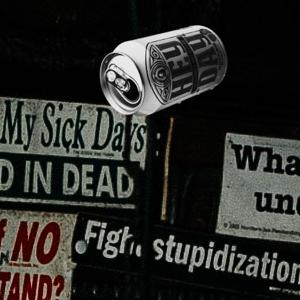can: (98, 25, 231, 118)
